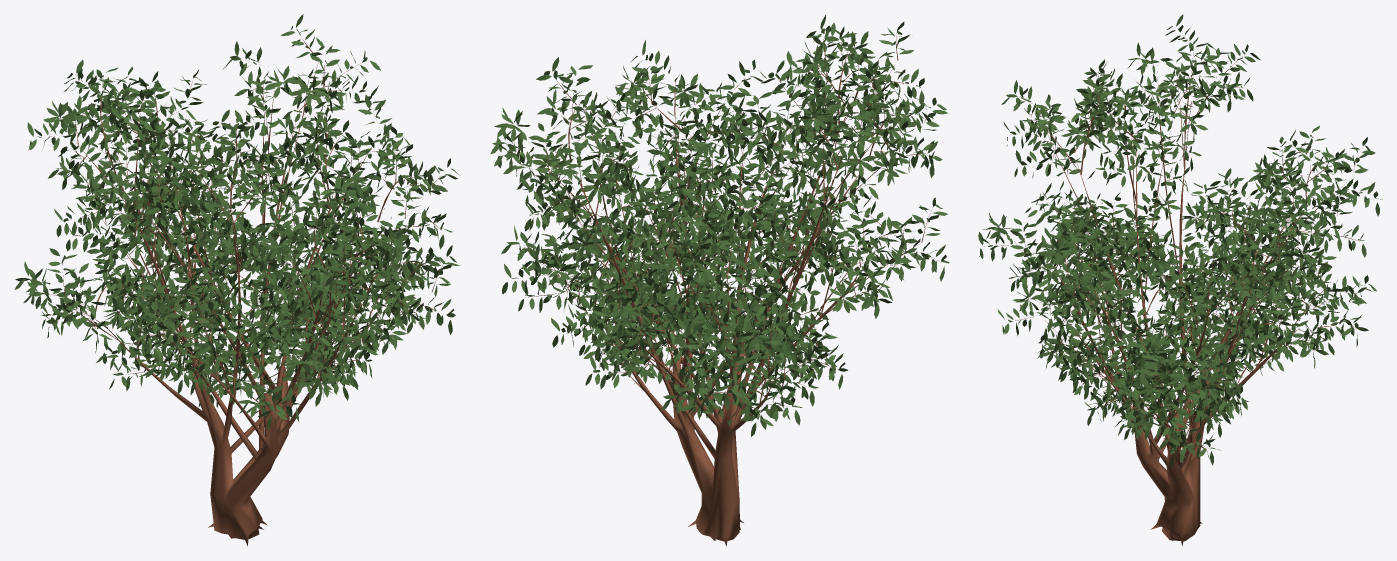
The model's file is Arbousier_1_Niveau0.fbx.
The picture shows the model from 3 angles, left to right: view 1: azimuth 30°, elevation 25°; view 2: azimuth 150°, elevation 25°; view 3: azimuth 270°, elevation 25°; orthographic projection. The views are drawn at different scales.
Parts seen in each view (by area): view 1: Arbousier_1_Niveau0_Jeu; view 2: Arbousier_1_Niveau0_Jeu; view 3: Arbousier_1_Niveau0_Jeu.
Part boxes in pixels (bbox=[...]): Arbousier_1_Niveau0_Jeu: bbox=[14, 14, 460, 546]; Arbousier_1_Niveau0_Jeu: bbox=[490, 15, 949, 546]; Arbousier_1_Niveau0_Jeu: bbox=[978, 14, 1382, 545].
Size of the model in its own units: 295 by 344 by 289.
